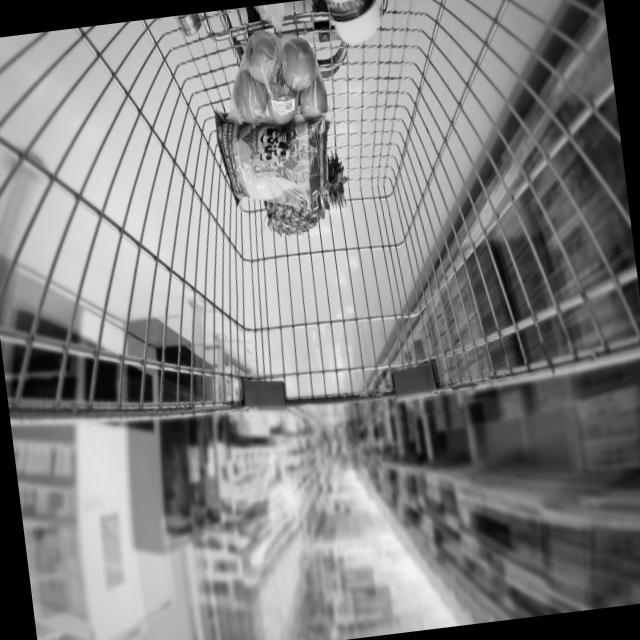dua: (257, 159, 353, 237)
sua: (320, 0, 386, 54)
tao: (226, 30, 332, 128)
